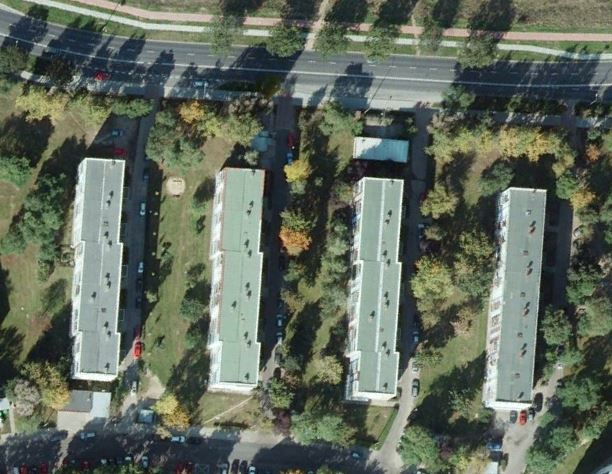block of flats: (60, 152, 134, 390), (480, 185, 551, 412), (200, 164, 269, 396), (340, 176, 409, 402)
